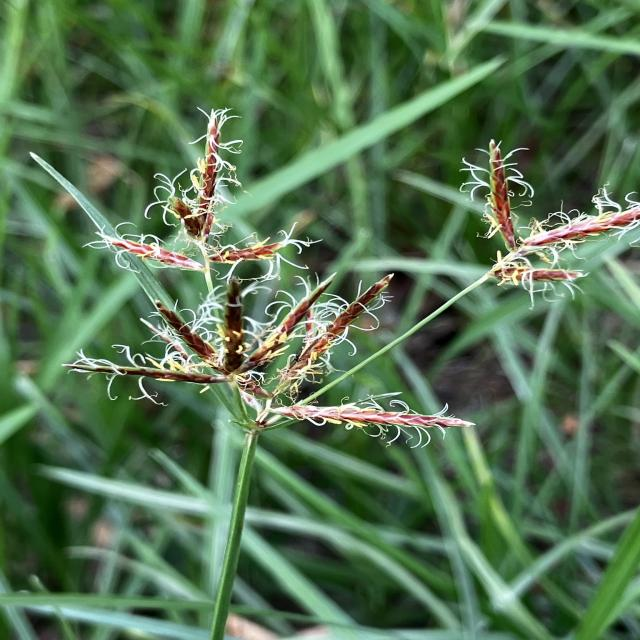cyperus: (78, 100, 640, 450), (63, 92, 475, 456), (454, 131, 640, 313)
